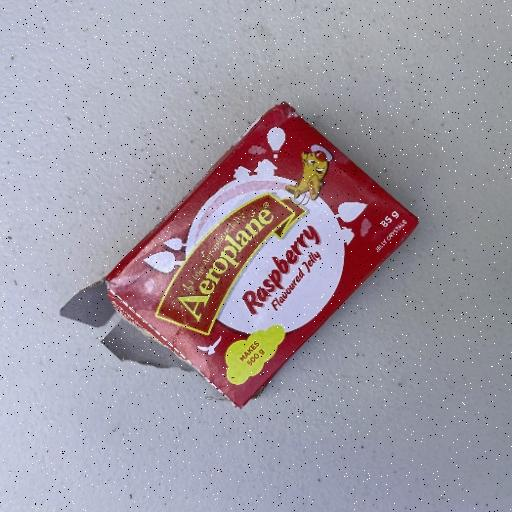Cardboard: (102, 100, 420, 410)
